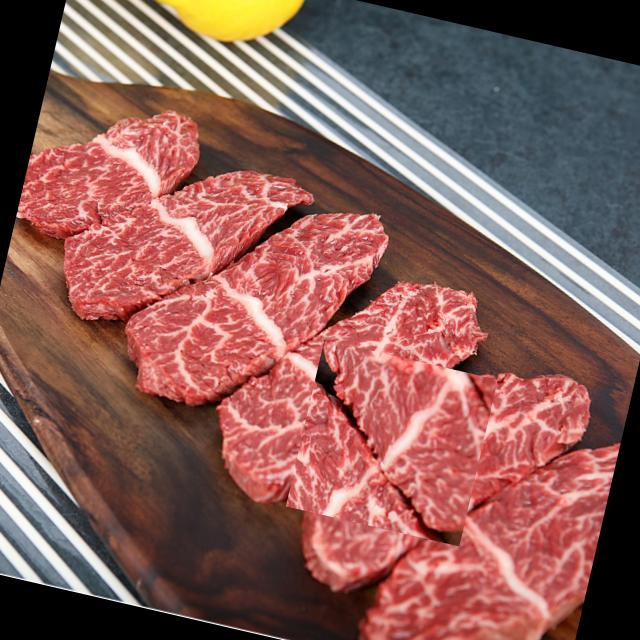beef: (286, 338, 496, 546), (122, 200, 317, 386)
